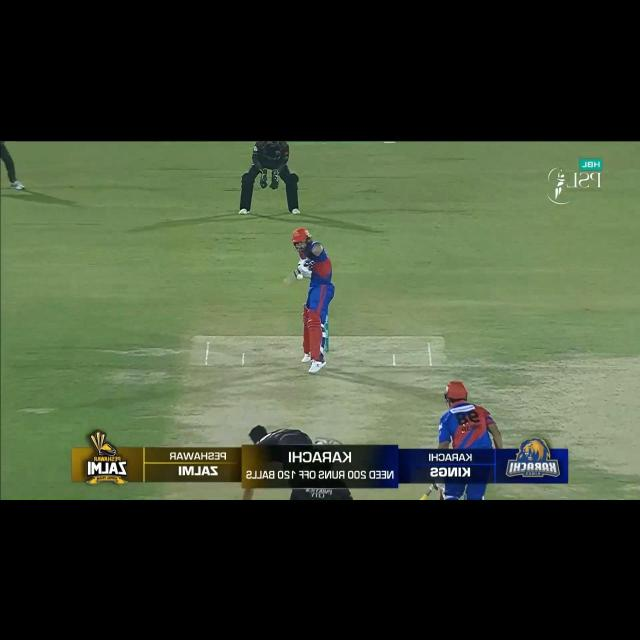bat: (284, 267, 303, 285)
toe: (283, 279, 292, 287)
